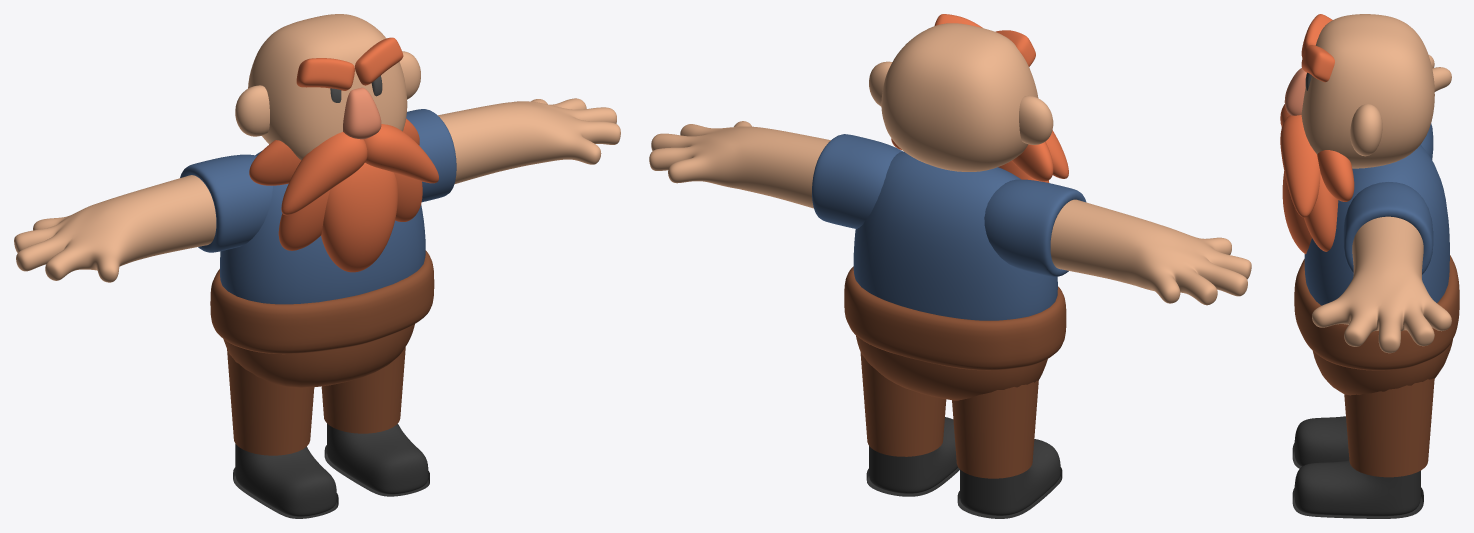
File: Player.fbx
The picture shows the model from 3 angles, left to right: view 1: azimuth 30°, elevation 25°; view 2: azimuth 150°, elevation 25°; view 3: azimuth 270°, elevation 25°; orthographic projection.
Parts seen in each view (by area): view 1: Cube.029, Cube.016, Circle.001, Cube.025, Cylinder.001, Cube.028, Cube.027, Cube.021, Cube.022, Cube.026, Cube.020, Cube.023 (+4 smaller); view 2: Cube.029, Cube.025, Cube.016, Cylinder.001, Cube.027, Circle.001, Cube.028, Cube.026, Cube.019, Cube.024, Cube.030, Cube.020; view 3: Cube.016, Cube.029, Cube.028, Cube.025, Cylinder.001, Circle.001, Cube.027, Cube.021, Cube.026, Cube.023, Cube.024, Cube.020 (+4 smaller).
Part boxes in pixels (left/top/right/bottom): Cube.029: left=14, top=98, right=620, bottom=282; Cube.016: left=248, top=14, right=407, bottom=160; Circle.001: left=210, top=250, right=434, bottom=354; Cube.025: left=220, top=150, right=425, bottom=304; Cylinder.001: left=227, top=347, right=405, bottom=455; Cube.028: left=235, top=423, right=428, bottom=516; Cube.027: left=180, top=109, right=456, bottom=252; Cube.021: left=281, top=124, right=438, bottom=215; Cube.022: left=321, top=163, right=397, bottom=272; Cube.026: left=223, top=324, right=414, bottom=387; Cube.020: left=296, top=37, right=403, bottom=90; Cube.023: left=278, top=172, right=422, bottom=250; Cube.029: left=649, top=121, right=1251, bottom=305; Cube.025: left=853, top=151, right=1057, bottom=320; Cube.016: left=881, top=23, right=1038, bottom=171; Cylinder.001: left=860, top=352, right=1038, bottom=478; Cube.027: left=812, top=134, right=1086, bottom=276; Circle.001: left=844, top=266, right=1066, bottom=370; Cube.028: left=869, top=417, right=1060, bottom=515; Cube.026: left=856, top=335, right=1047, bottom=400; Cube.019: left=869, top=61, right=1053, bottom=144; Cube.024: left=891, top=138, right=1053, bottom=181; Cube.030: left=866, top=467, right=1062, bottom=518; Cube.020: left=934, top=14, right=1035, bottom=66; Cube.016: left=1301, top=14, right=1434, bottom=168; Cube.029: left=1312, top=55, right=1451, bottom=353; Cube.028: left=1294, top=416, right=1420, bottom=516; Cube.025: left=1304, top=144, right=1449, bottom=305; Cylinder.001: left=1344, top=378, right=1434, bottom=477; Circle.001: left=1294, top=255, right=1459, bottom=370; Cube.027: left=1343, top=123, right=1433, bottom=274; Cube.021: left=1280, top=104, right=1320, bottom=217; Cube.026: left=1313, top=339, right=1452, bottom=395; Cube.023: left=1304, top=174, right=1338, bottom=251; Cube.024: left=1317, top=150, right=1354, bottom=201; Cube.020: left=1301, top=14, right=1334, bottom=82.
Bounding box in the file's own units: 772 × 564 × 201.
